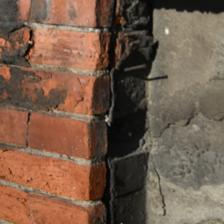Crack: (100, 7, 126, 222), (150, 101, 223, 145), (144, 155, 173, 218), (2, 23, 41, 69)
